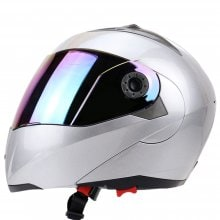with_helmet: (2, 22, 218, 210)
